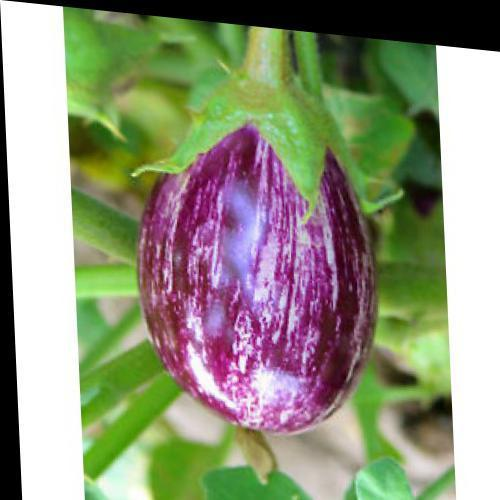eggplant: (131, 14, 386, 462)
